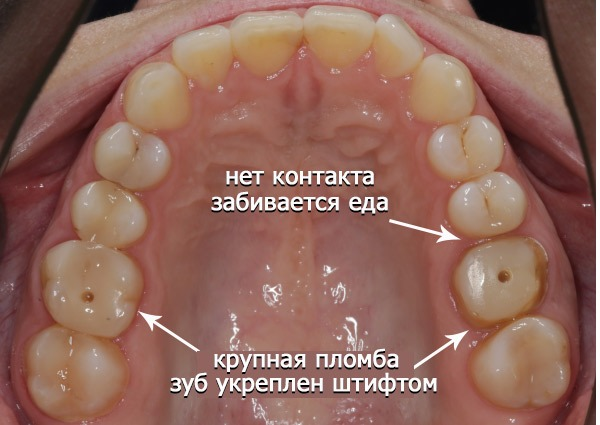UL1BC_decay: (430, 117, 502, 176)
UL1M_decay: (457, 239, 539, 317)
UL2BC_decay: (449, 173, 524, 233)
UL2M_healthy: (475, 317, 570, 406)
ULCI_healthy: (304, 6, 372, 63)
ULC_healthy: (413, 54, 473, 122)
ULLI_healthy: (374, 13, 422, 77)
UR1BC_decay: (95, 122, 170, 187)
UR1M_decay: (45, 241, 139, 335)
UR2BC_healthy: (71, 181, 145, 246)
UR2M_healthy: (27, 331, 122, 412)
URCI_healthy: (232, 10, 302, 73)
URC_healthy: (125, 62, 189, 129)
URLI_healthy: (173, 25, 231, 85)
